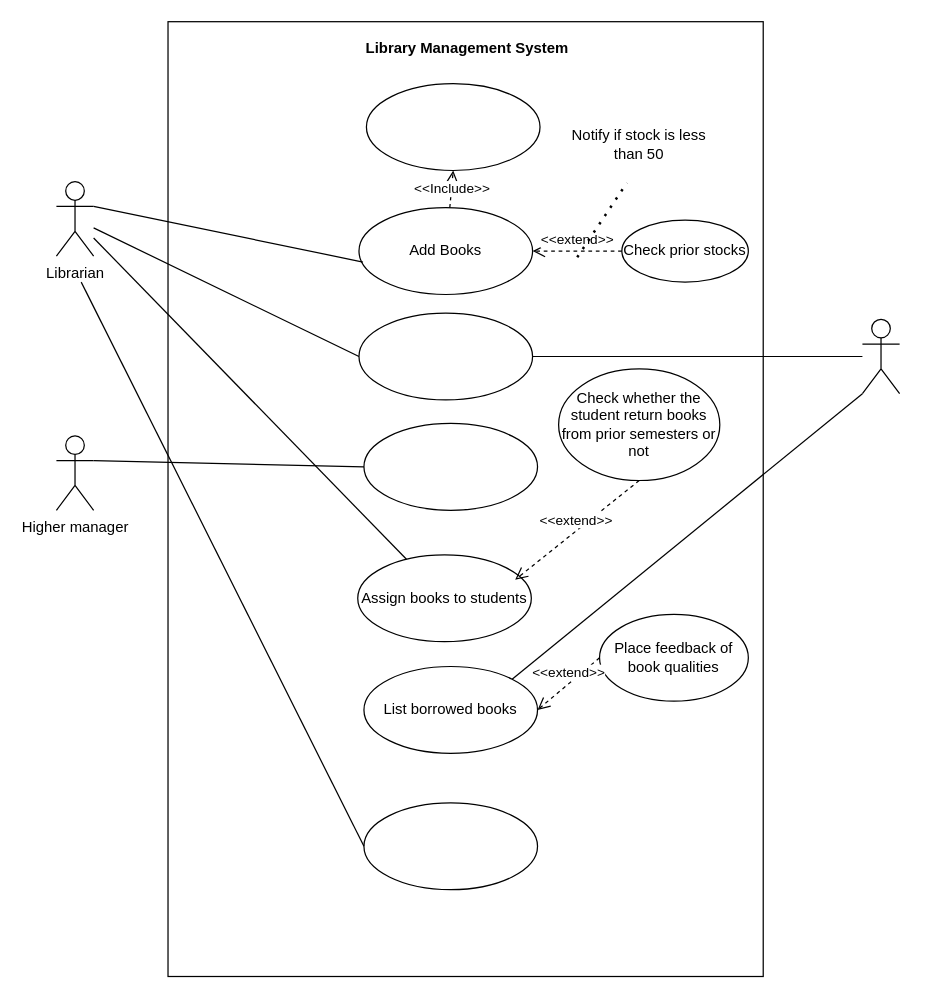
Some shapes in this 928 by 998 pixel diagram are drawn without their labels. Each missing label, with the centre of its shape:
"List/View all the books which was issued to students" belongs at (x=450, y=846).
"List/View Books" belongs at (x=445, y=356).
"Place new books order requests" belongs at (x=450, y=466).
"Student" belongs at (x=880, y=356).
"View higher manager request for new books add" belongs at (x=452, y=126).
